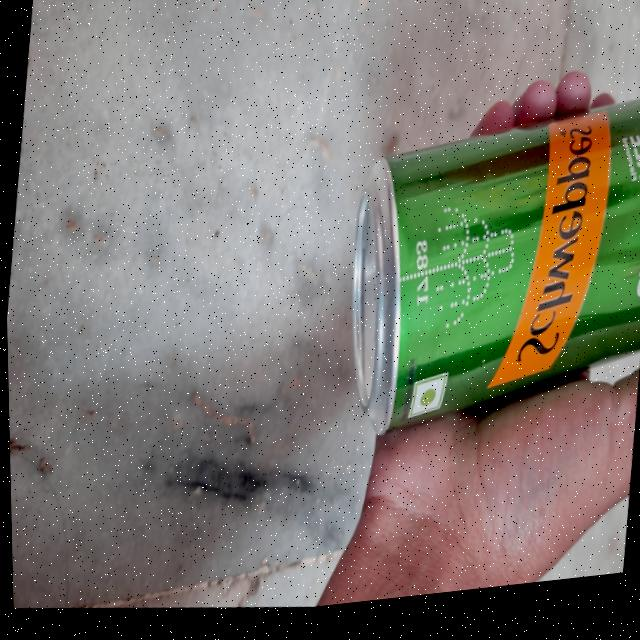Schweppes: (348, 121, 640, 459)
